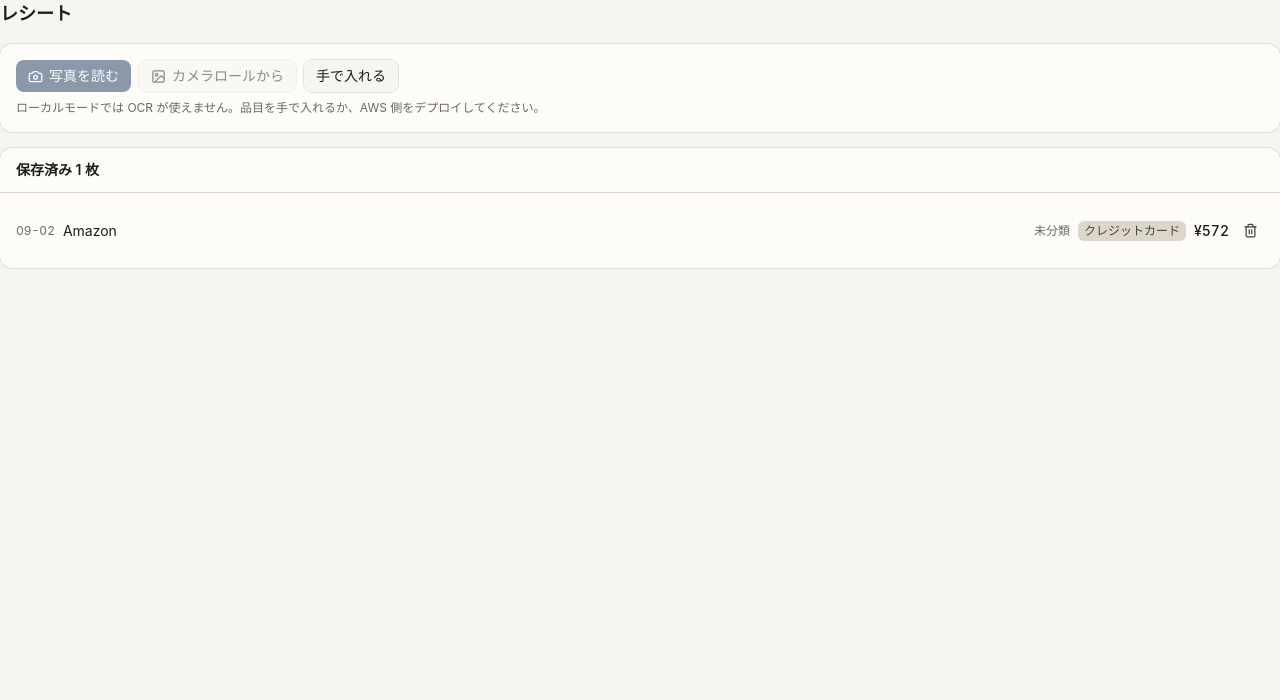
Test case: 保存する前の警告 › やめて保存済みを開くと、読み取った下書きは保存せずに保存済みを開く
The image size is (1280, 700).
Check: the heading "保存済み 1 枚" is shown, box [16,160,99,180]
Click the button "手で入れる" at x=351, y=76, box [304,60,398,92]
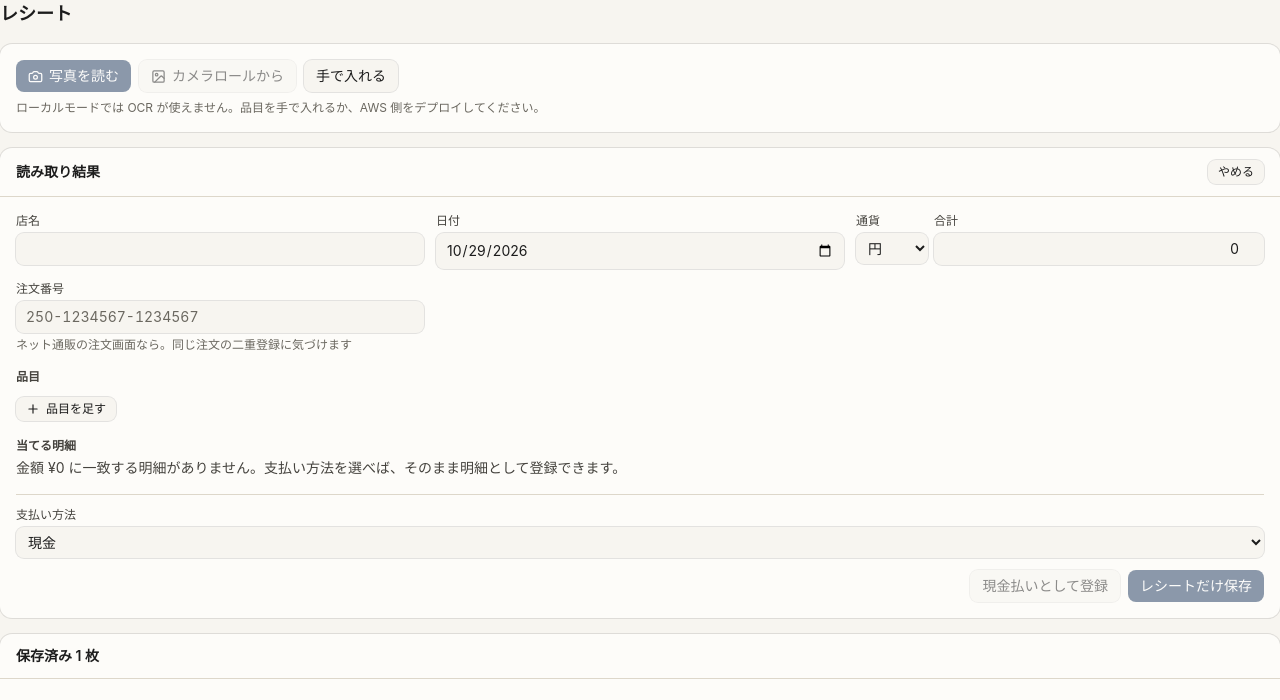
Type "Amazon" into the field labelled "店名" at x=220, y=249, box [16,233,424,265]
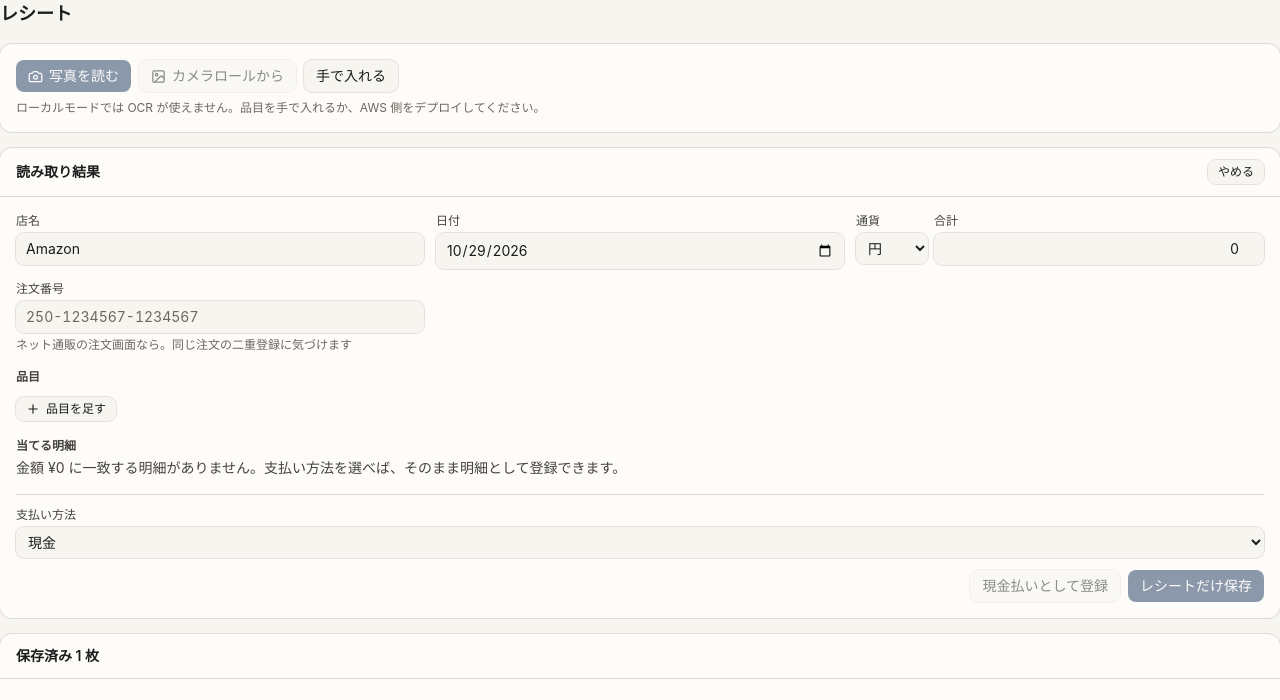
Type "2026-09-04" into the date field labelled "日付" at x=640, y=251, box [436,233,844,269]
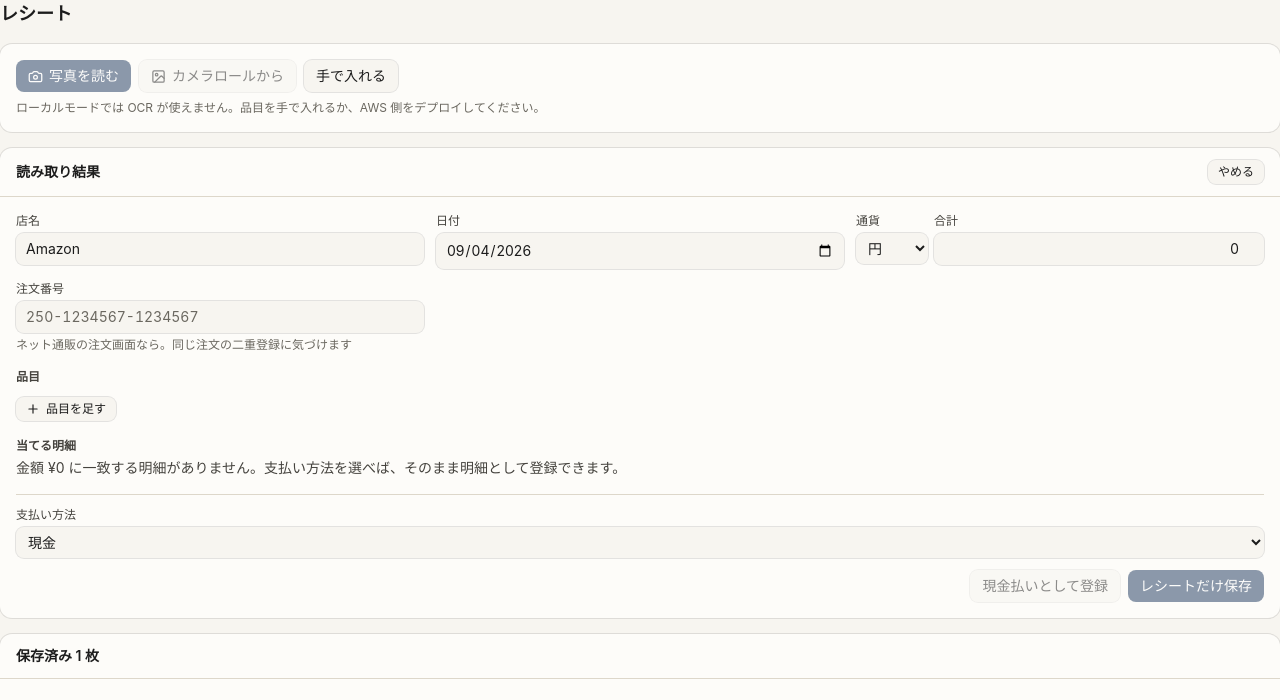
Replace the text in the number field labelled "合計" with "572" at x=1099, y=249, box [934,233,1264,265]
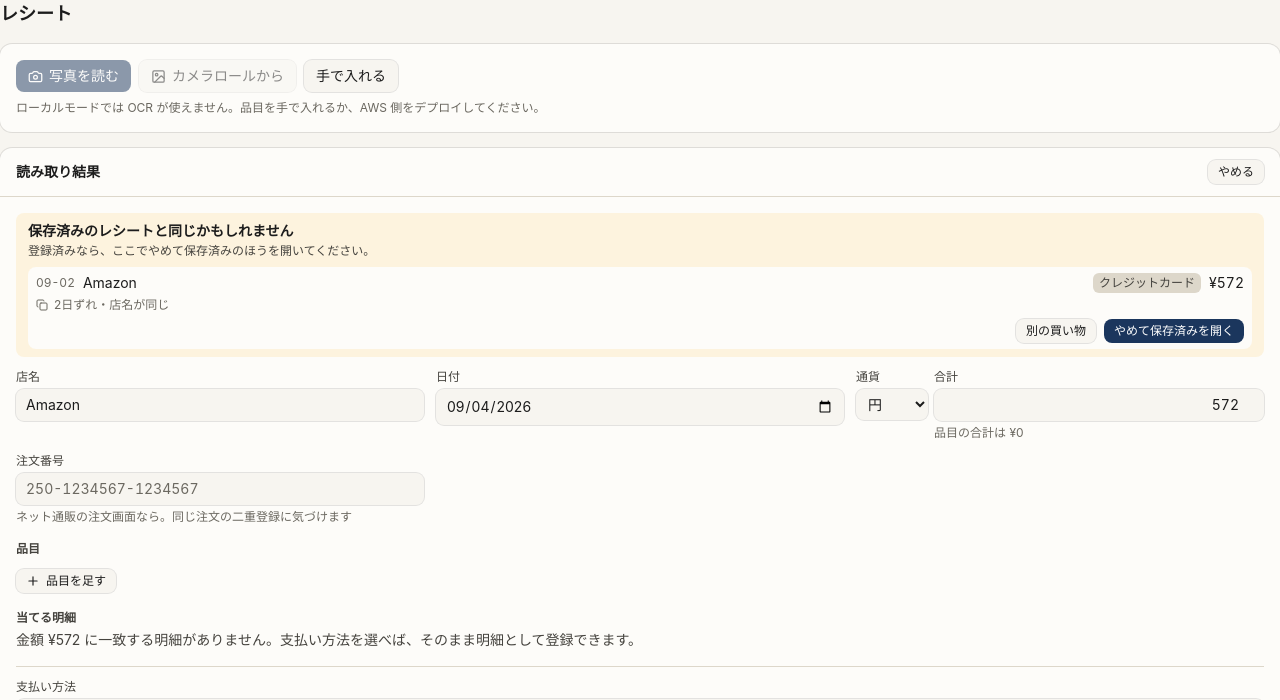
Click the button "やめて保存済みを開く" at x=1174, y=331, box [1104,319,1244,343]
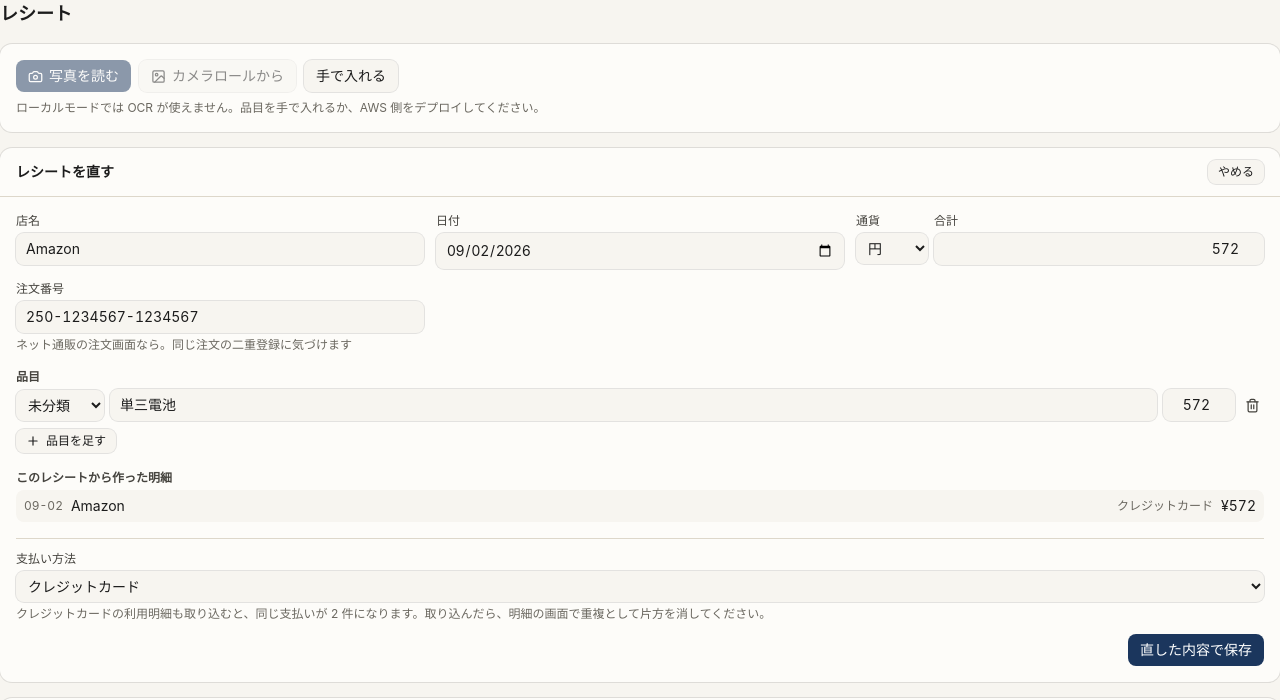
Check: the heading "レシートを直す" is shown, box [16,162,114,182]
Check: the date field labelled "日付" holds "2026-09-02", box [436,233,844,269]
Check: the text "保存済みのレシートと同じかもしれません" is gone
